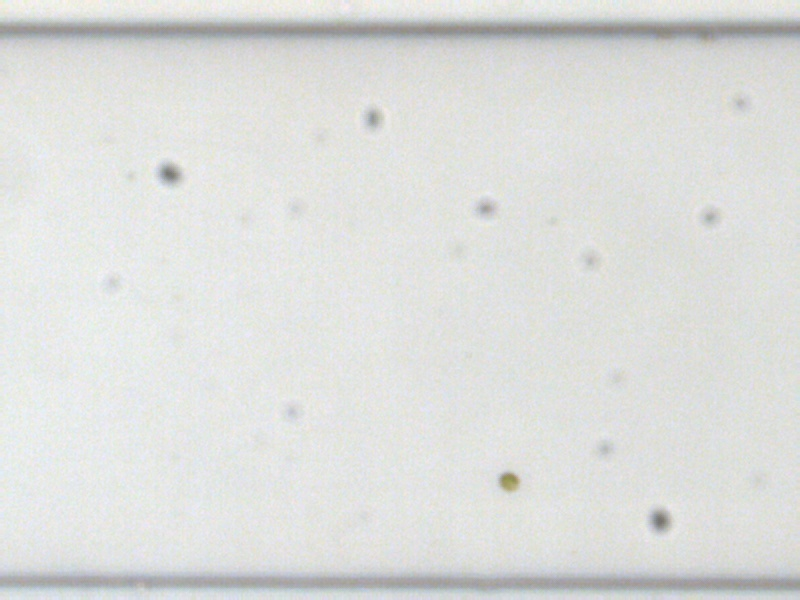Chlorella: (495, 471, 518, 491)
